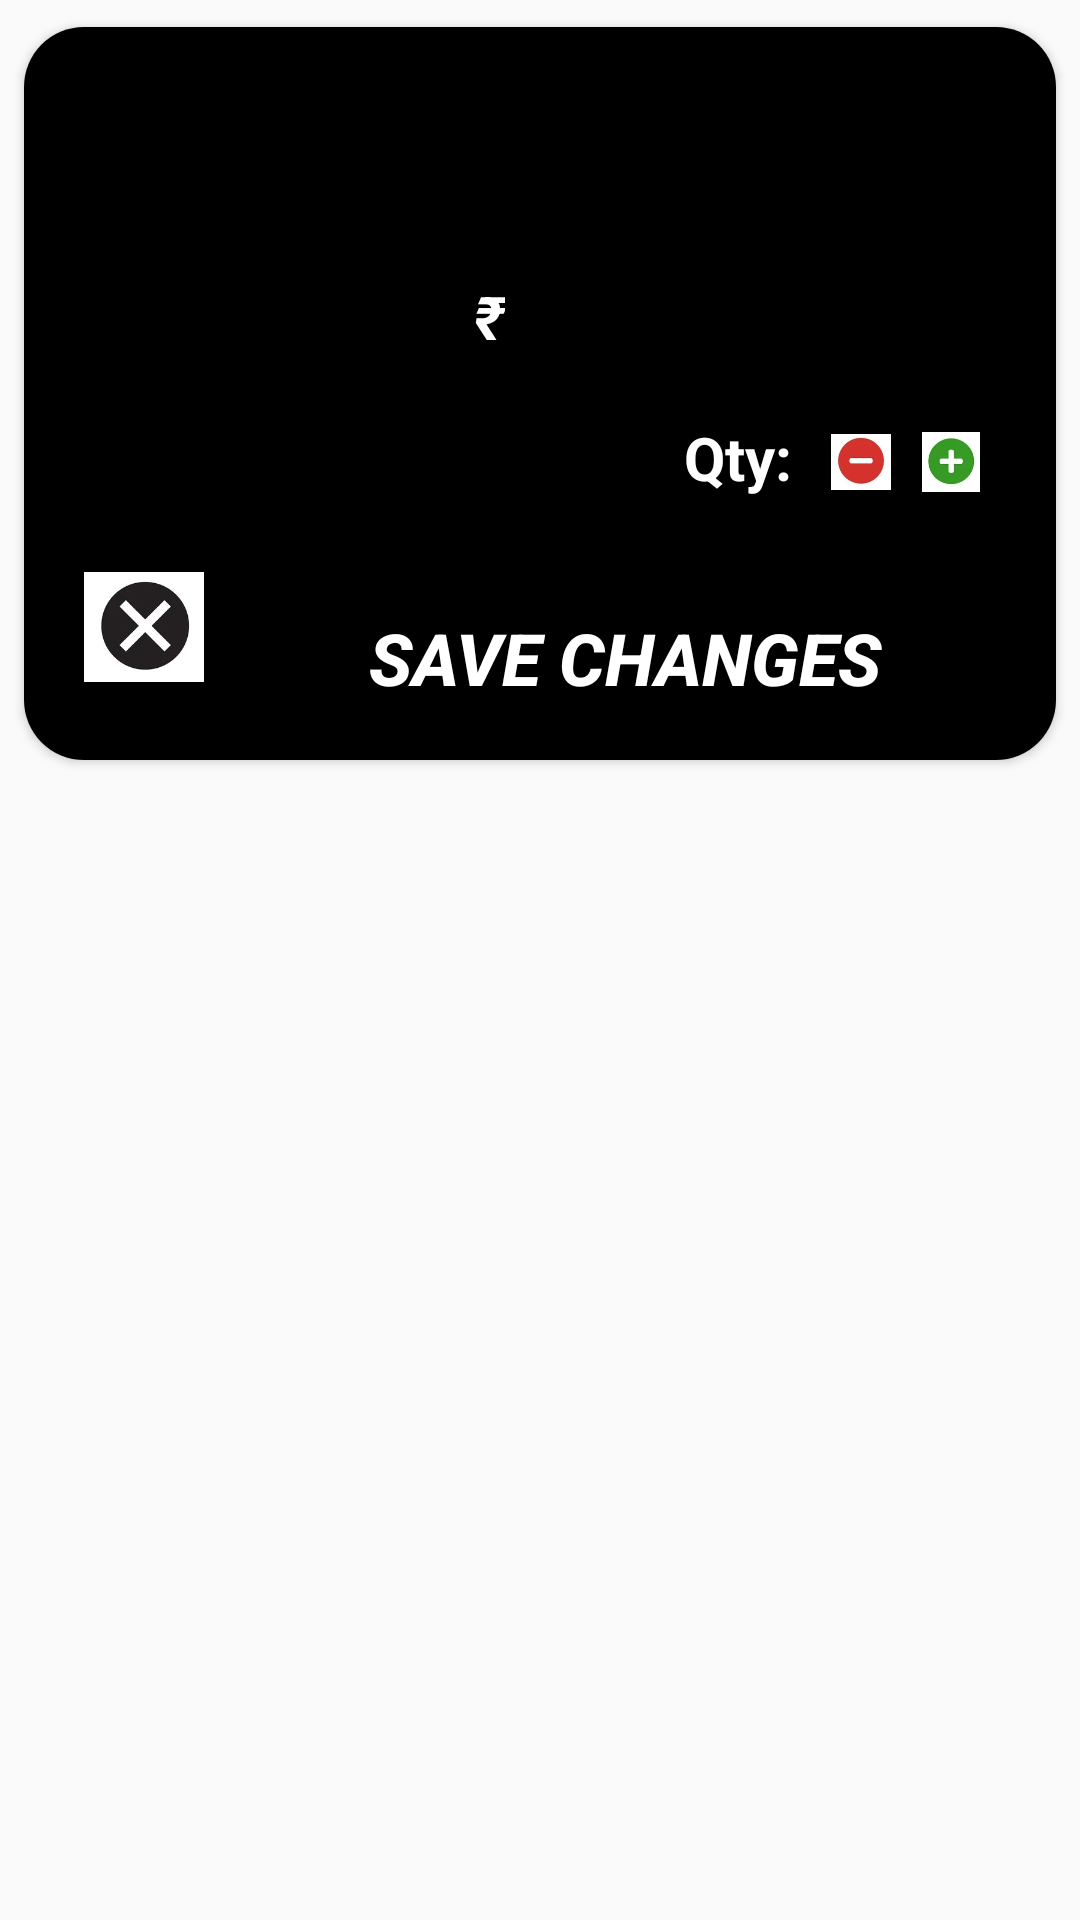

Point at icon controls on the screen. Image size 1080px x 1920px, points as [x,y].
dec: [861,462]
delbutton: [144,627]
inc: [951,462]
